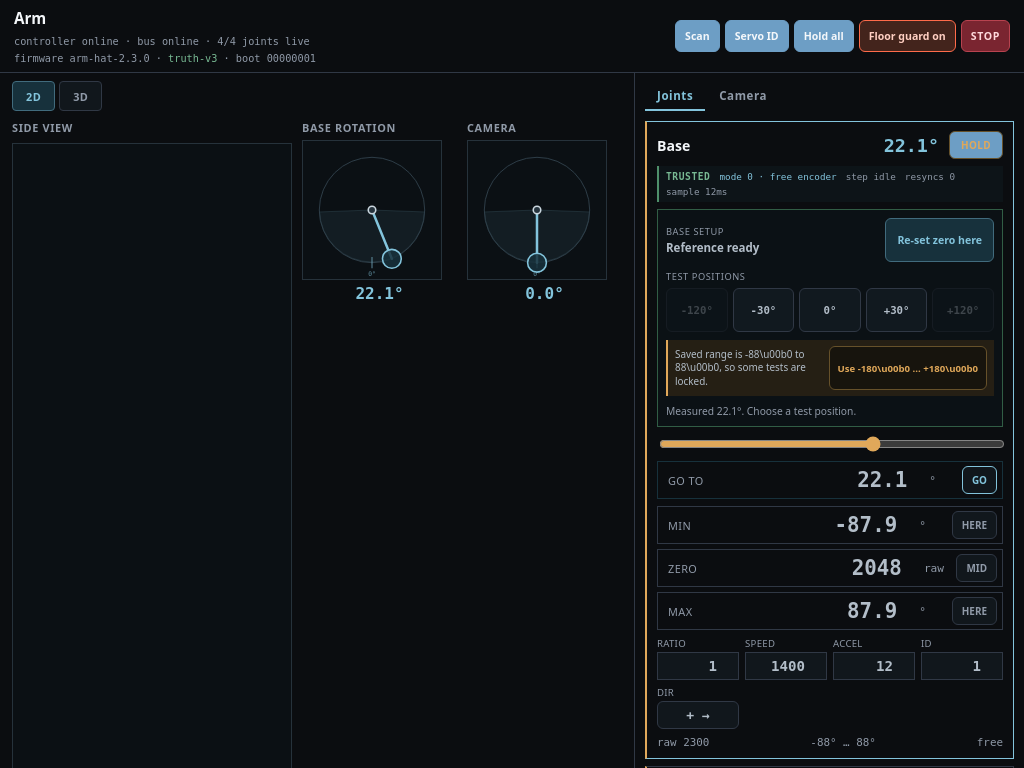
it: SimpleArm › announces the focused autofocus outcome as polite status
The width and height of the screenshot is (1024, 768).
Expected: the text "Base" is shown, [657, 136, 690, 154]
Click the tab "Camera". click: {"x": 743, "y": 96}
box: [707, 81, 779, 111]
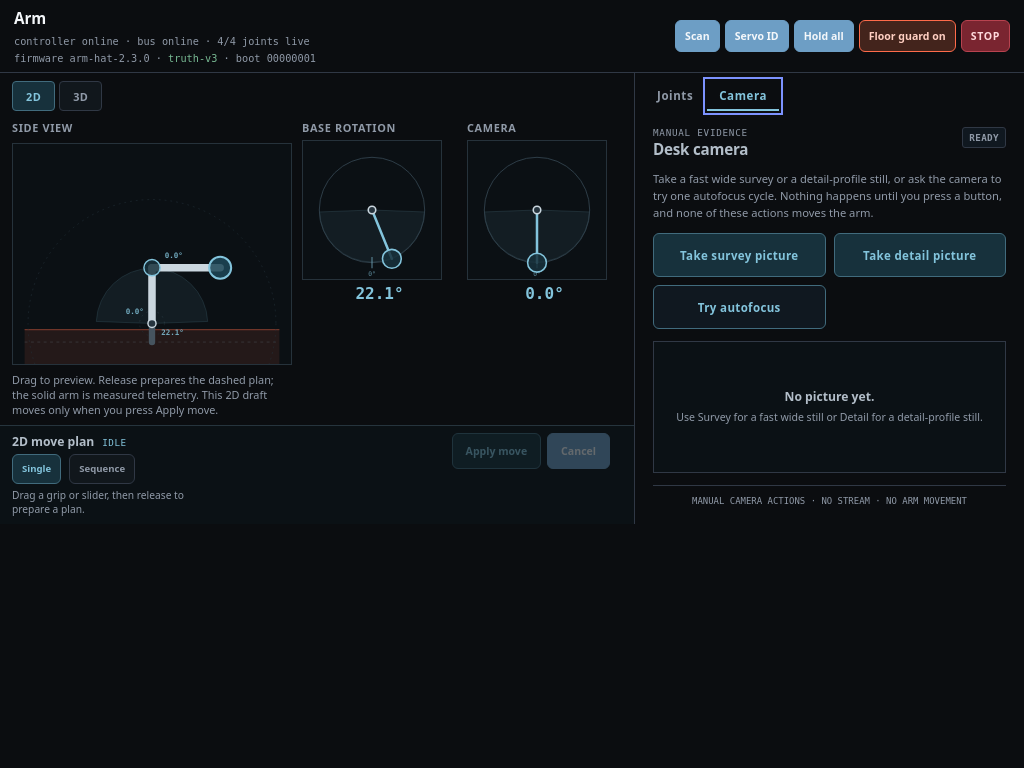
Expected: the button "Try autofocus" is enabled
Click the button "Try autofocus". click: {"x": 739, "y": 307}
box: [653, 285, 826, 329]
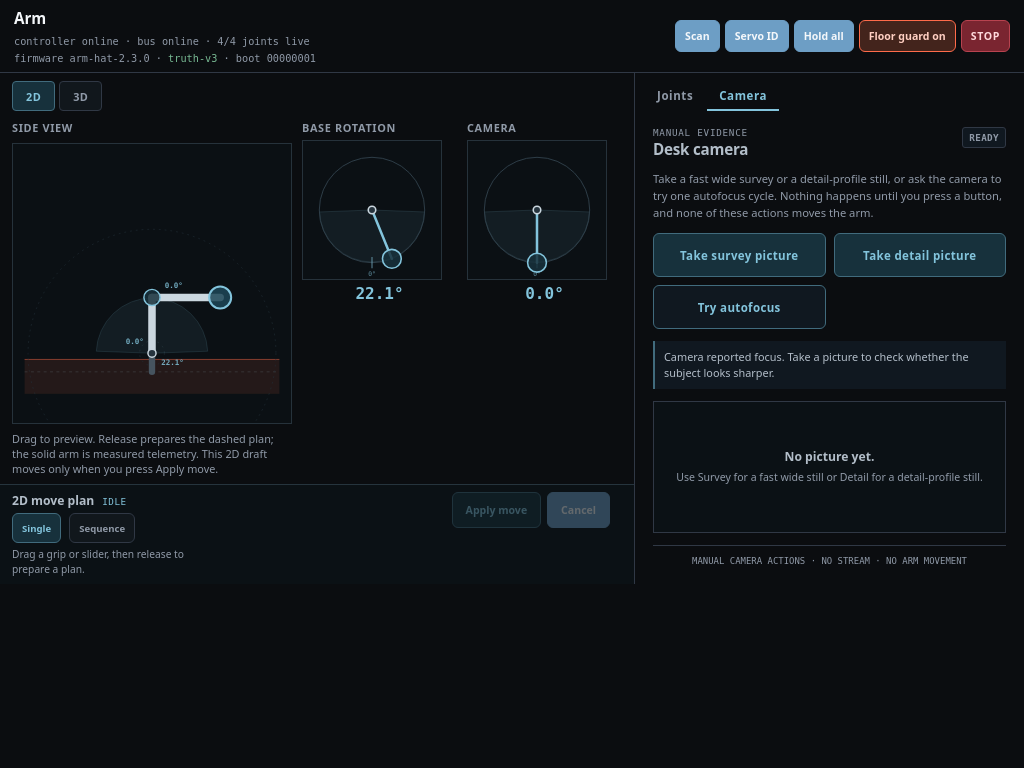
Expected: the message shows "Camera reported focus. Take a picture to check whether the subject looks sharper.", [664, 349, 968, 380]
